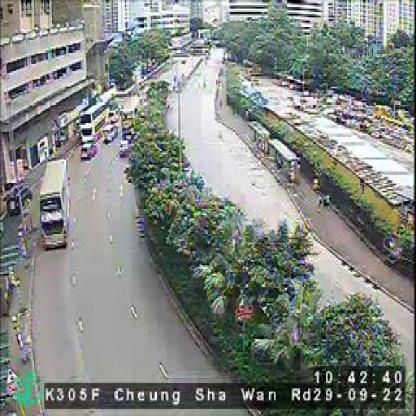Bus: (36, 156, 76, 253), (79, 97, 107, 142)
Car: (80, 135, 96, 165), (102, 121, 115, 144), (117, 140, 126, 160)
Minibus: (109, 100, 124, 122)
